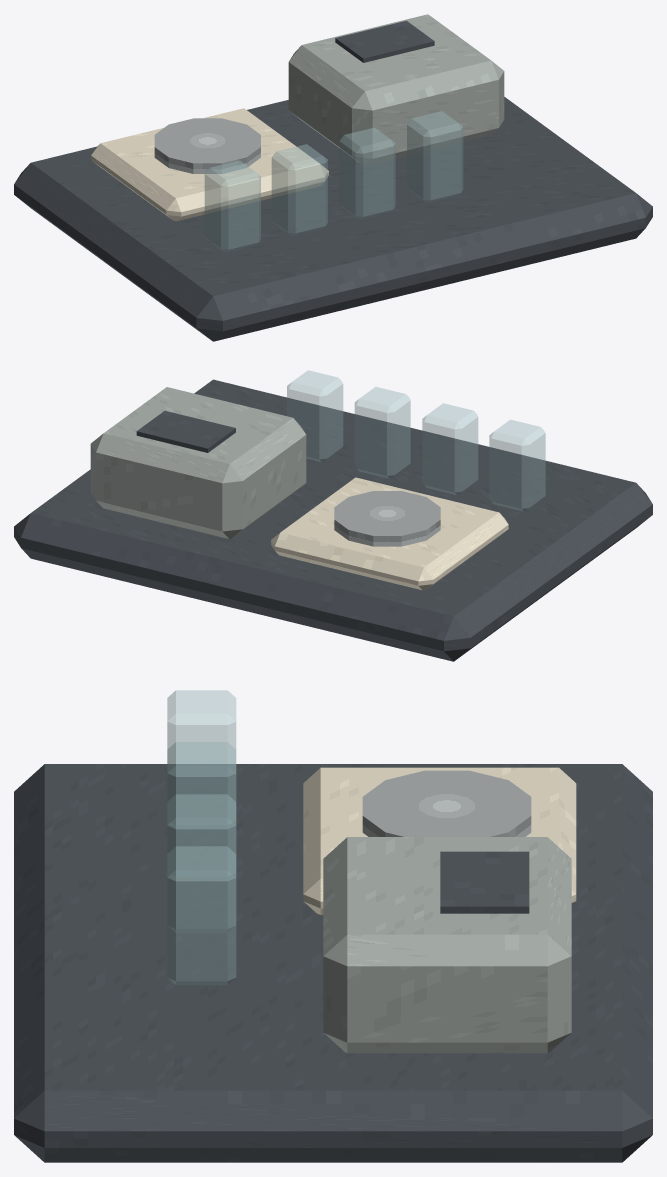
Rendered from analytical_set_basic.glb.
The picture shows the model from 3 angles, top to bottom: view 1: azimuth 30°, elevation 25°; view 2: azimuth 150°, elevation 25°; view 3: azimuth 270°, elevation 25°; orthographic projection. The views are drawn at different scales.
Visible parts, largest first — view 1: block_portable instrument kit tray, block_instrument housing, block_sampling cell (×4), block_compact digital balance, block_scale platform, block_sample slot; view 2: block_portable instrument kit tray, block_instrument housing, block_sampling cell (×4), block_compact digital balance, block_scale platform, block_sample slot; view 3: block_portable instrument kit tray, block_instrument housing, block_sampling cell (×4), block_compact digital balance, block_scale platform, block_sample slot.
Boxes of the visible parts, bbox=[...] form: block_portable instrument kit tray: bbox=[14, 97, 652, 341]; block_instrument housing: bbox=[288, 14, 504, 166]; block_sampling cell (×4): bbox=[204, 111, 463, 252]; block_compact digital balance: bbox=[91, 108, 328, 220]; block_scale platform: bbox=[154, 118, 260, 173]; block_sample slot: bbox=[335, 20, 434, 62]; block_portable instrument kit tray: bbox=[14, 379, 652, 661]; block_instrument housing: bbox=[90, 387, 306, 538]; block_sampling cell (×4): bbox=[287, 370, 545, 511]; block_compact digital balance: bbox=[271, 477, 508, 590]; block_scale platform: bbox=[334, 491, 440, 546]; block_sample slot: bbox=[136, 411, 235, 452]; block_portable instrument kit tray: bbox=[14, 764, 652, 1162]; block_instrument housing: bbox=[323, 837, 571, 1053]; block_sampling cell (×4): bbox=[167, 690, 236, 985]; block_compact digital balance: bbox=[303, 767, 576, 914]; block_scale platform: bbox=[362, 770, 531, 836]; block_sample slot: bbox=[440, 851, 529, 913].
Bounding box in the file's own units: 0.3249 × 0.0847 × 0.2488.
Materials: 2 (2 with a texture image).
